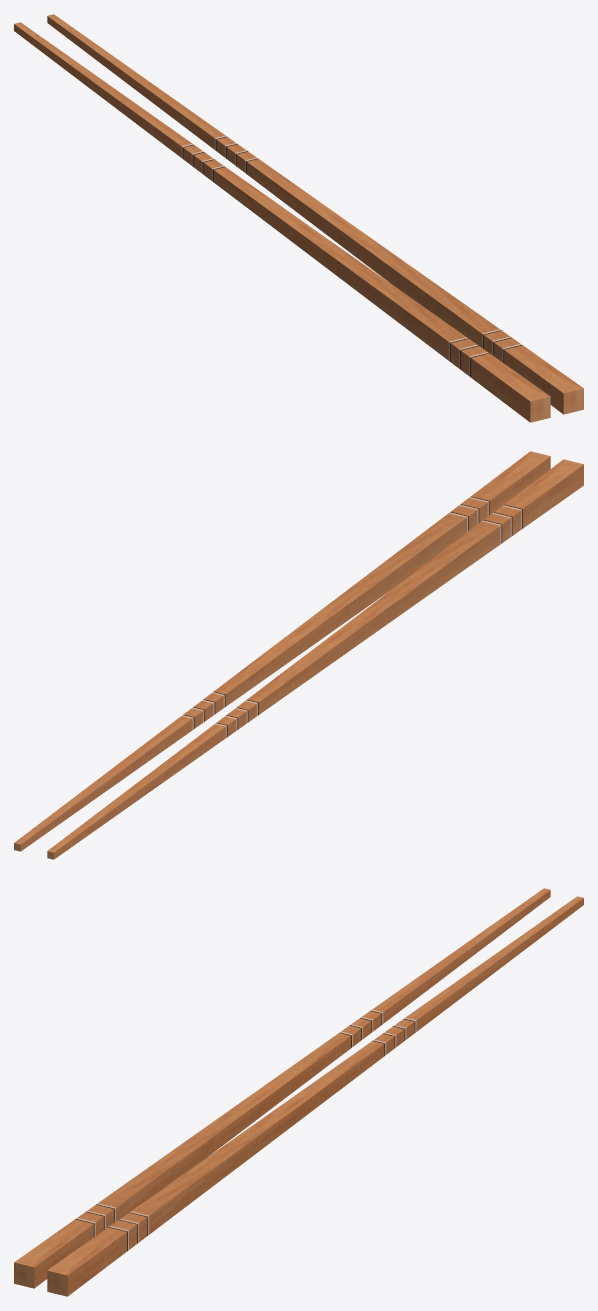
Rendered from chopsticks_A.fbx.
3 views of the same model, one above another, from view 1: azimuth 30°, elevation 25°; view 2: azimuth 150°, elevation 25°; view 3: azimuth 330°, elevation 25° (orthographic).
Parts seen in each view (by area): view 1: chopstick_A; view 2: chopstick_A; view 3: chopstick_A.
Part boxes in pixels (x1,y1,x2,y2): chopstick_A: [14, 14, 583, 422]; chopstick_A: [14, 451, 583, 859]; chopstick_A: [14, 888, 583, 1296].
Bounding box in the file's own units: 1.05 × 0.3989 × 17.77.
1 material, 1 textured.
